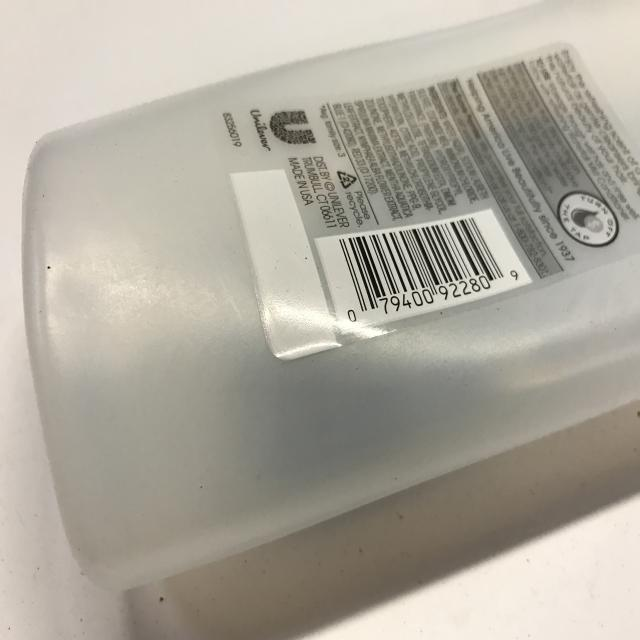plastic: (20, 7, 640, 595)
